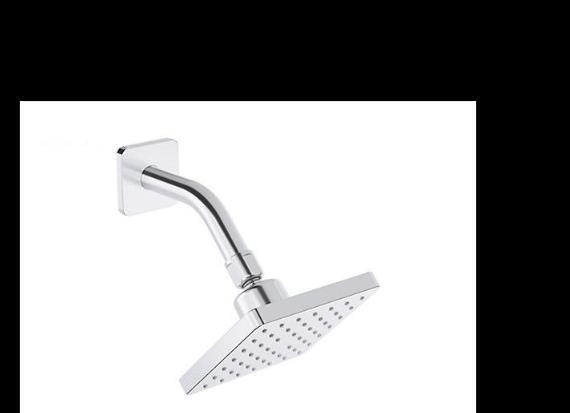Ducha: (105, 129, 380, 401)
